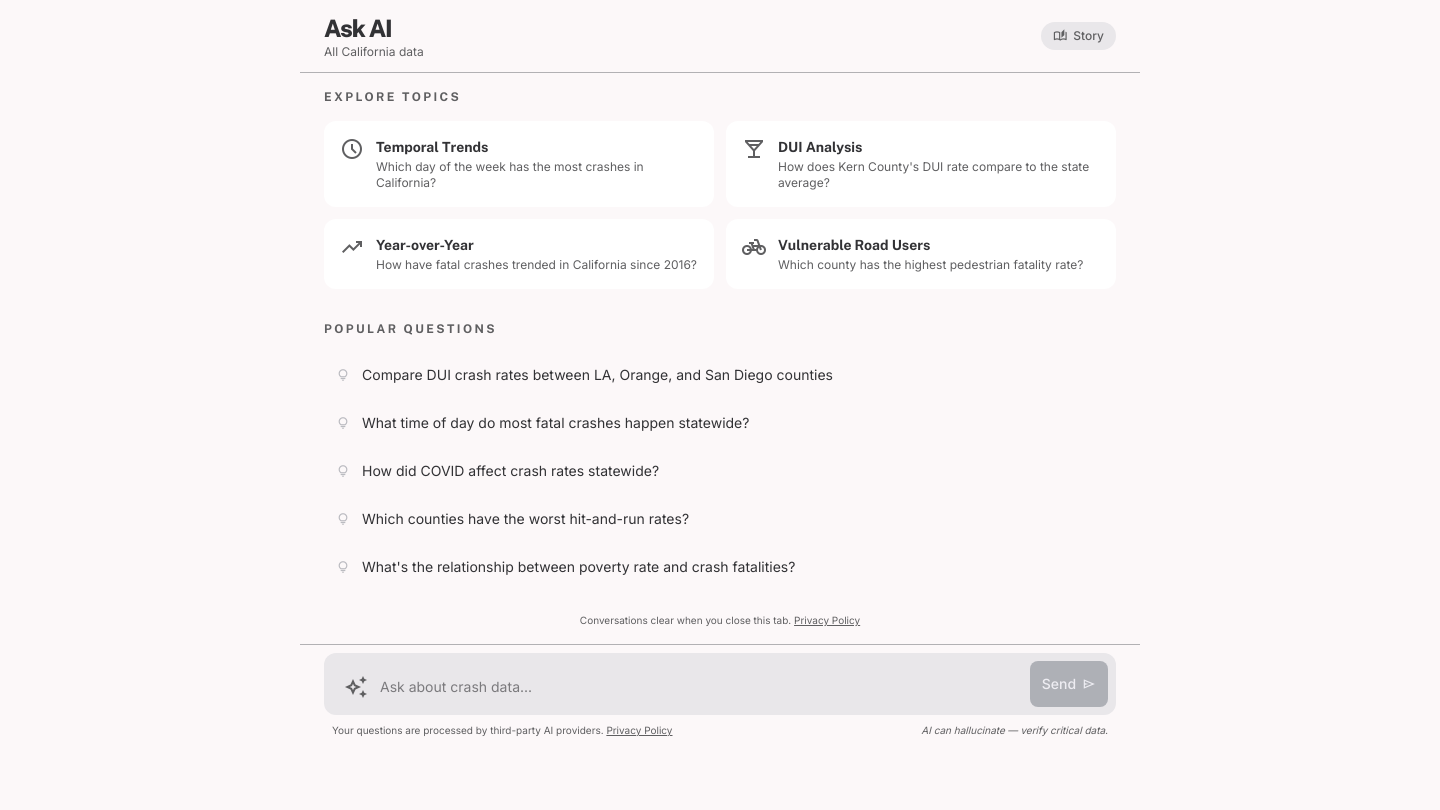
Scenario: AskAiPage story canvas integration › shows a Story toggle that opens the panel
The width and height of the screenshot is (1440, 810).
Click the button "Story" at (1079, 36), box [1041,22,1116,50]
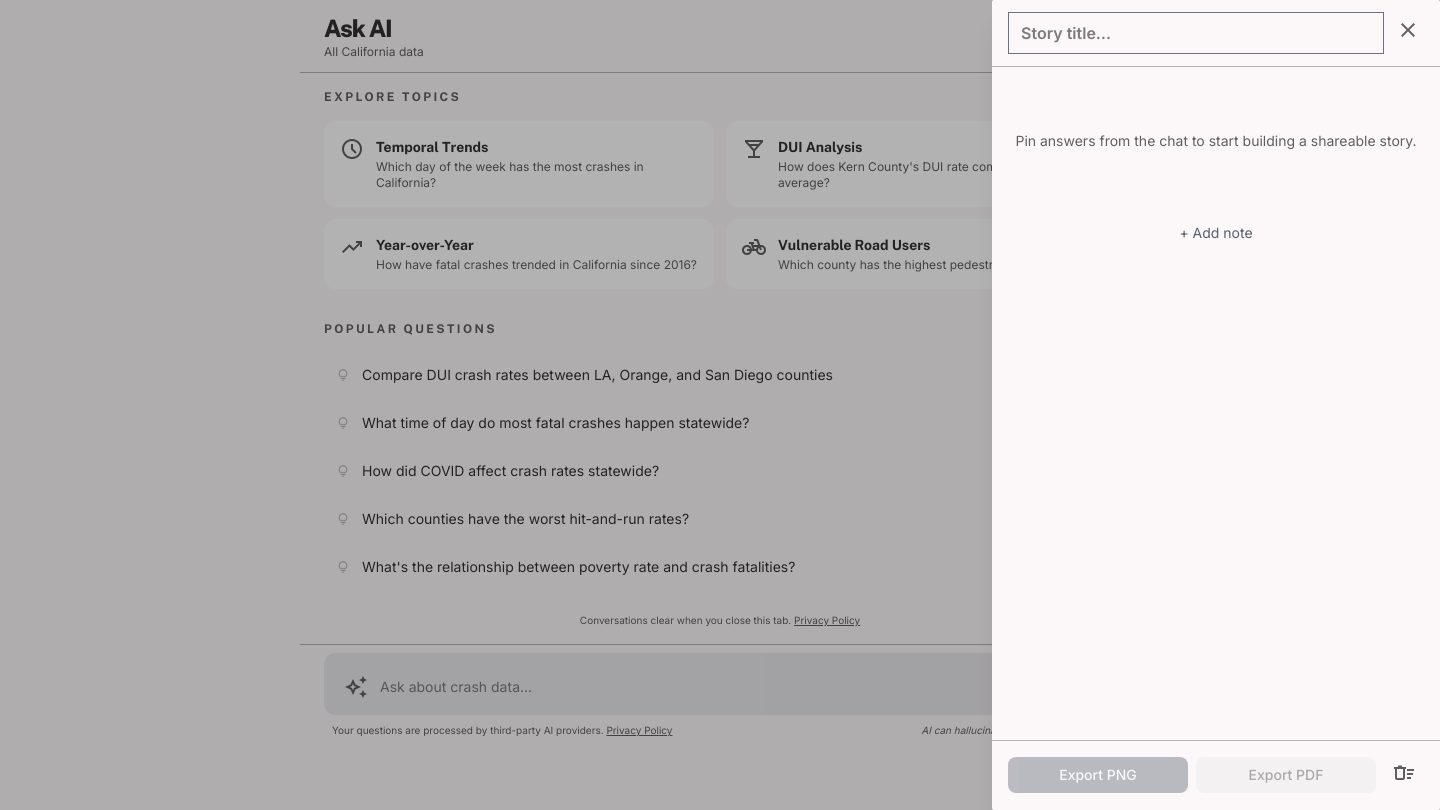
Check: the dialog "story" is shown, box [992,0,1439,809]
